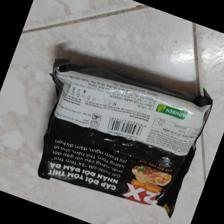3mien: (36, 59, 214, 219)
